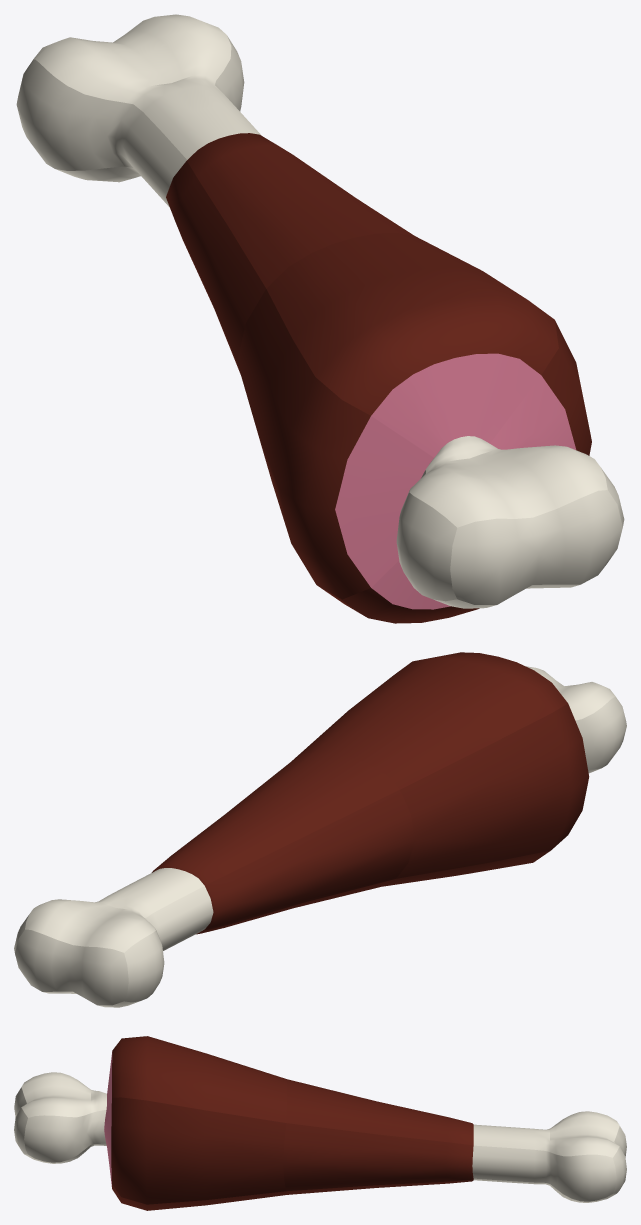
The model's file is Meat_Bone_Textured.fbx.
The picture shows the model from 3 angles, top to bottom: view 1: azimuth 30°, elevation 25°; view 2: azimuth 150°, elevation 25°; view 3: azimuth 270°, elevation 25°; orthographic projection. The views are drawn at different scales.
Visible parts, largest first — view 1: pCube5.003, pCube5.004, pCube5.005; view 2: pCube5.003, pCube5.004; view 3: pCube5.003, pCube5.004, pCube5.005.
Part boxes in pixels (<box>): pCube5.003: <box>166,133,591,623</box>; pCube5.004: <box>16,14,624,608</box>; pCube5.005: <box>335,353,576,609</box>; pCube5.003: <box>151,652,589,934</box>; pCube5.004: <box>14,666,626,1007</box>; pCube5.003: <box>111,1036,473,1210</box>; pCube5.004: <box>14,1072,626,1202</box>; pCube5.005: <box>104,1052,112,1186</box>.
Bounding box in the file's own units: 199 × 145 × 535.
